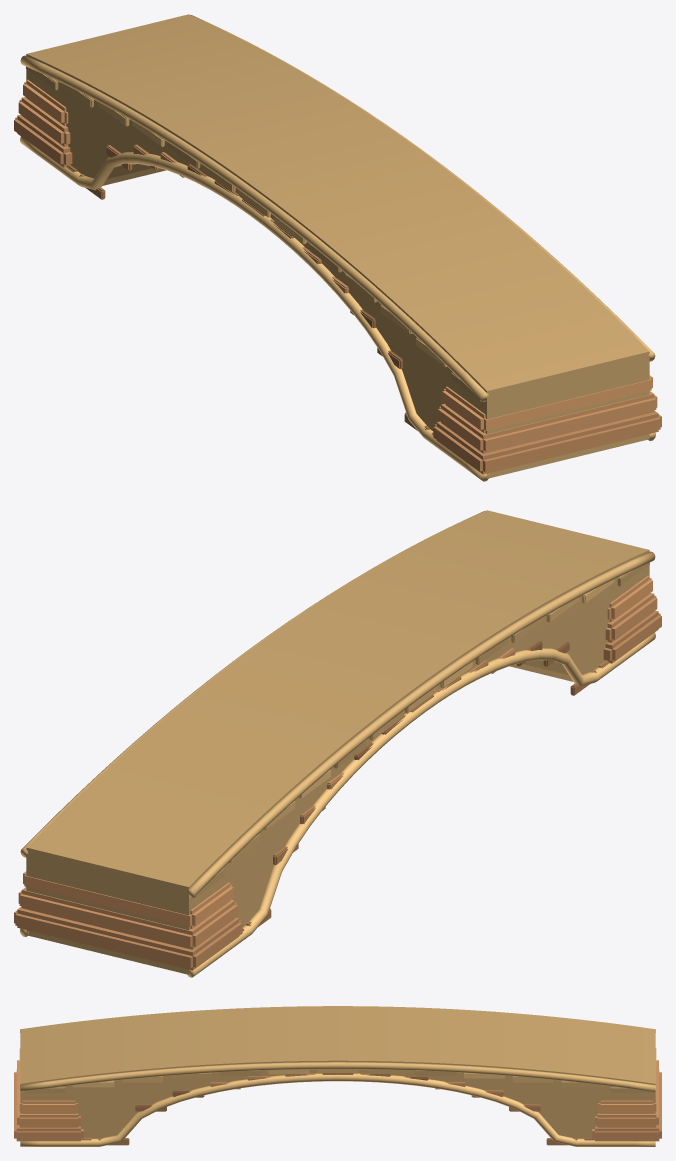
File: west-bridge-_JED4Xd-.glb
3 views of the same model, one above another, from view 1: azimuth 30°, elevation 25°; view 2: azimuth 150°, elevation 25°; view 3: azimuth 270°, elevation 25° (orthographic). The views are drawn at different scales.
Parts seen in each view (by area): view 1: west-bridge; view 2: west-bridge; view 3: west-bridge.
Boxes of the visible parts, x1=… form: west-bridge: x1=14, y1=14, x2=661, y2=481; west-bridge: x1=14, y1=510, x2=661, y2=977; west-bridge: x1=14, y1=1006, x2=661, y2=1146.
Bounding box in the file's own units: 4.25 × 2.75 × 19.
